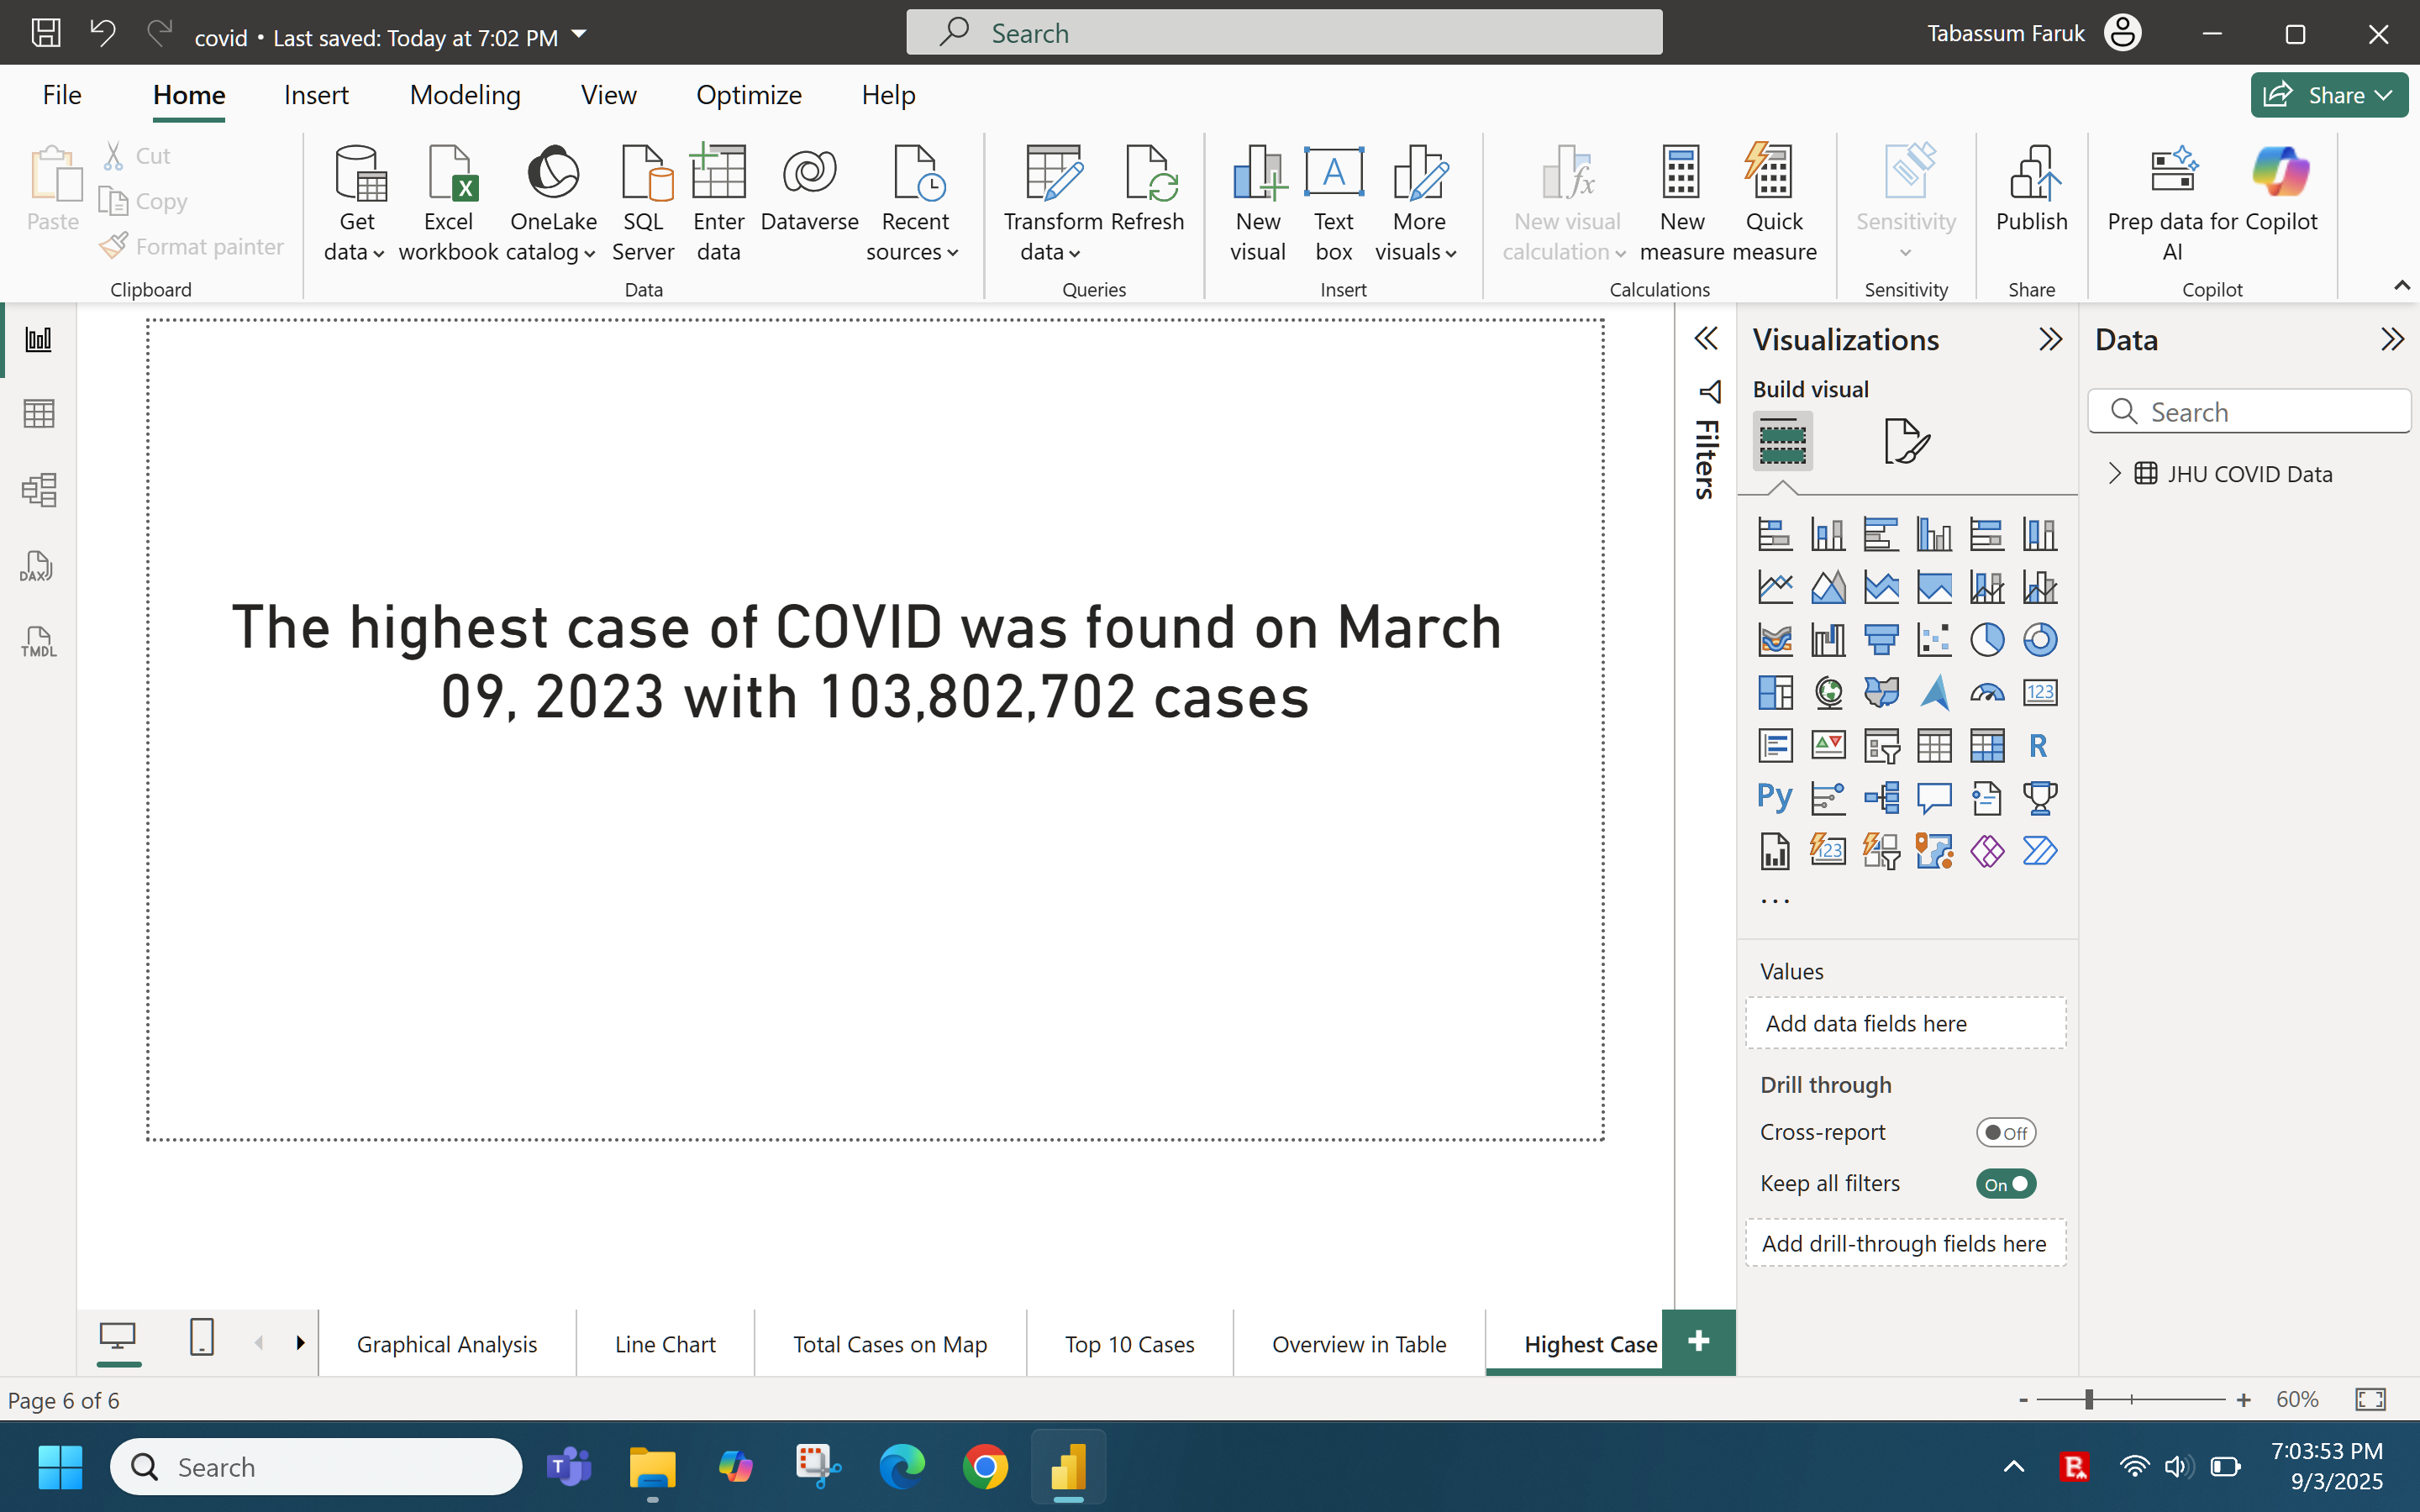

What the dashboard file says about the page in this screenshot:
{"tool":"powerbi","page":{"name":"Highest Case","canvas":[1280,720],"ordinal":5},"visuals":[{"type":"card","fields":{"Values":["JHU COVID Data.Peak Date Info"]},"box":[0,151.6,1279.3,280.4],"z":1001}]}

Visuals, with their boxes on the page's 1280x720 design canvas (x1, y1, x2, y2). These are canvas units, not pixel positions in the 2420x1512 screenshot, which may show the page scaled, cropped or inside an application window:
card - JHU COVID Data.Peak Date Info: box(0, 152, 1279, 432)
